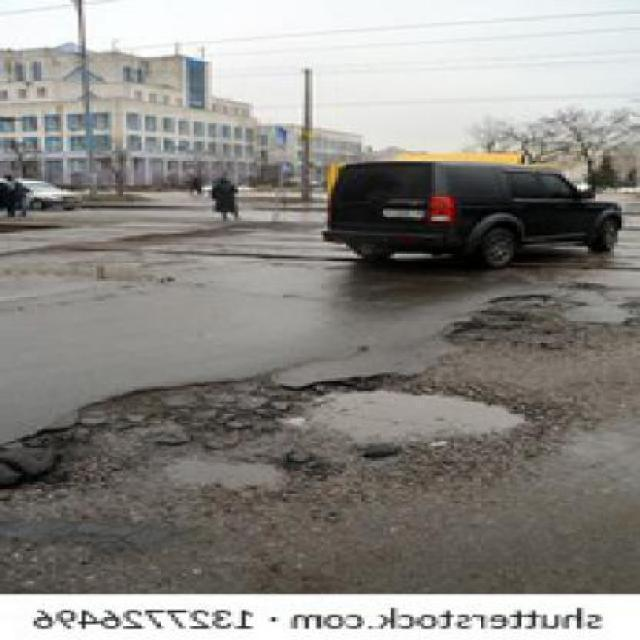Pothole: (2, 359, 564, 594), (446, 289, 640, 428)
